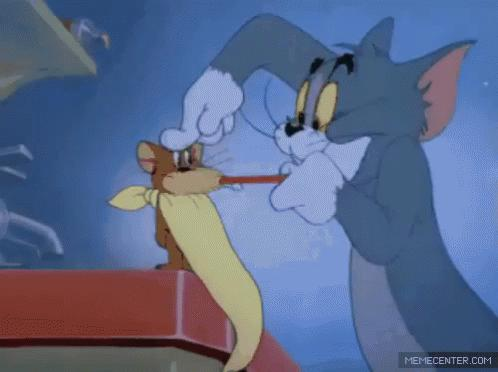jerry: (135, 140, 226, 274)
